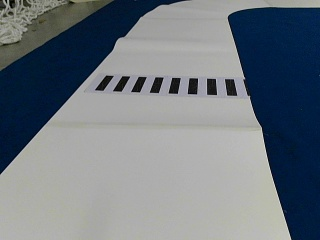crosswalk: (93, 74, 240, 97)
